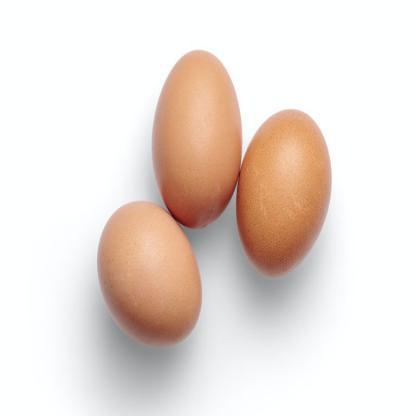egg: (220, 72, 340, 280), (90, 186, 214, 359), (136, 38, 242, 229)
